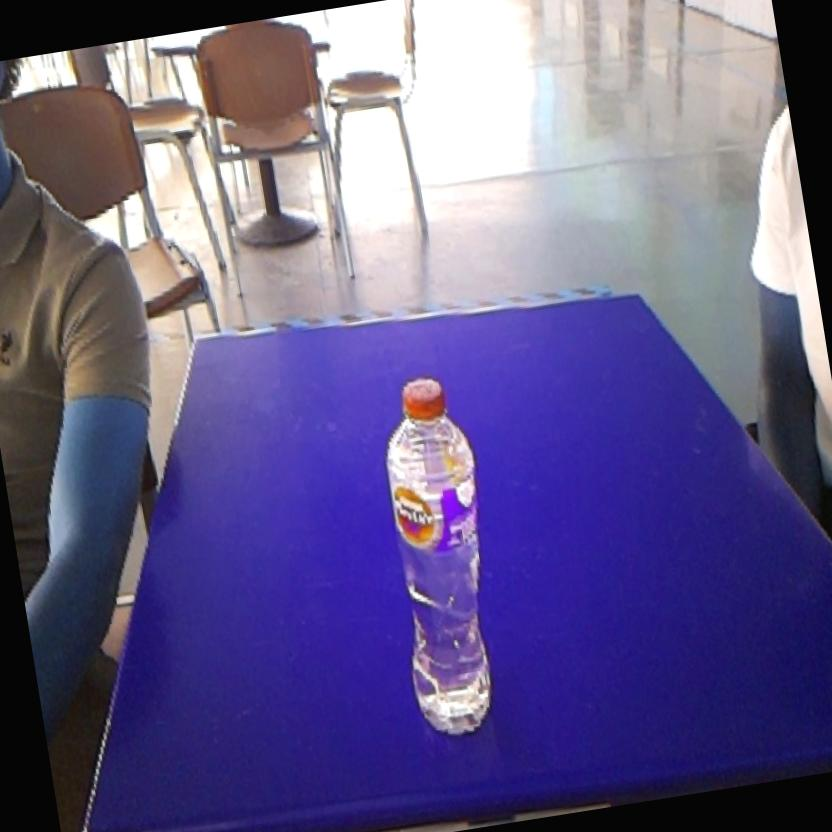good: (352, 359, 523, 758)
